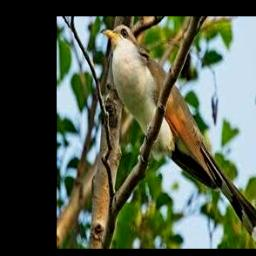Cuckoo: (101, 25, 256, 241)
